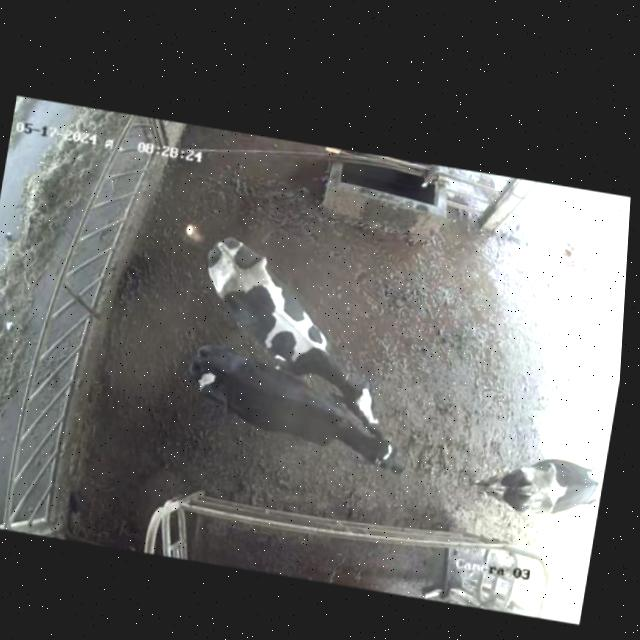stand: (171, 219, 428, 440), (139, 326, 430, 500), (471, 400, 613, 553)
